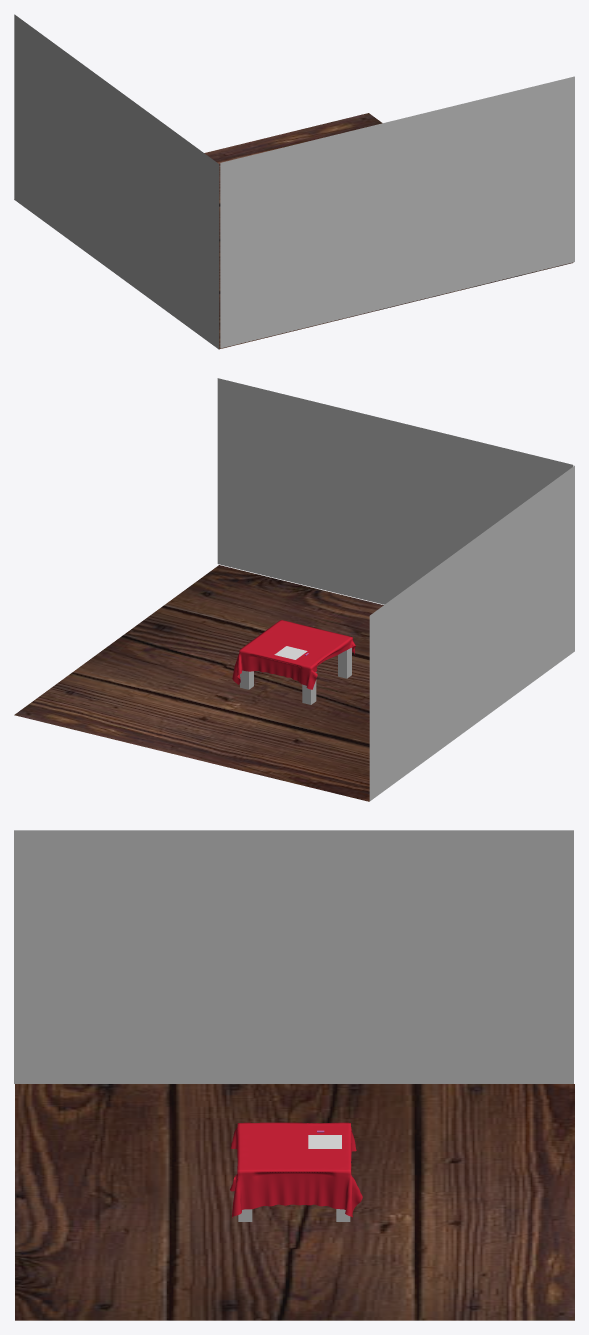
File: Bedroom_Scene.fbx
The picture shows the model from 3 angles, top to bottom: view 1: azimuth 30°, elevation 25°; view 2: azimuth 150°, elevation 25°; view 3: azimuth 270°, elevation 25°; orthographic projection. The views are drawn at different scales.
Visible parts, largest first — view 1: Plane, Plane.001, Floor; view 2: Plane, Floor, Plane.001, Cloth, Table; view 3: Plane.001, Floor, Cloth.
Part boxes in pixels (x1,y1,x2,y2): Plane: (220,76,574,348); Plane.001: (14,14,219,349); Floor: (204,113,573,349); Plane: (217,378,573,604); Floor: (14,565,383,801); Plane.001: (369,465,574,801); Cloth: (232,620,355,689); Table: (240,648,351,704); Plane.001: (14,830,573,1083); Floor: (15,1084,574,1320); Cloth: (230,1122,362,1217).
Size of the model in its own units: 2008 by 1003 by 2004.
